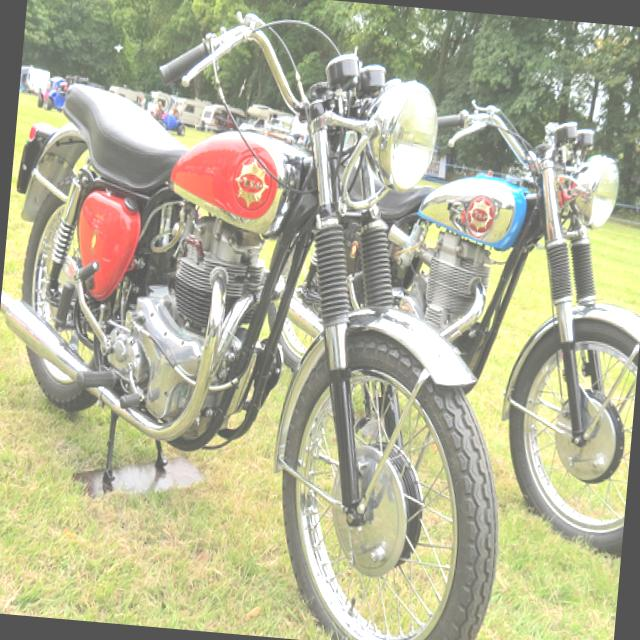Vehicle: (0, 0, 556, 640), (356, 99, 640, 559), (146, 90, 188, 136), (198, 102, 247, 136), (240, 102, 286, 136), (166, 95, 212, 128), (36, 74, 71, 112)
